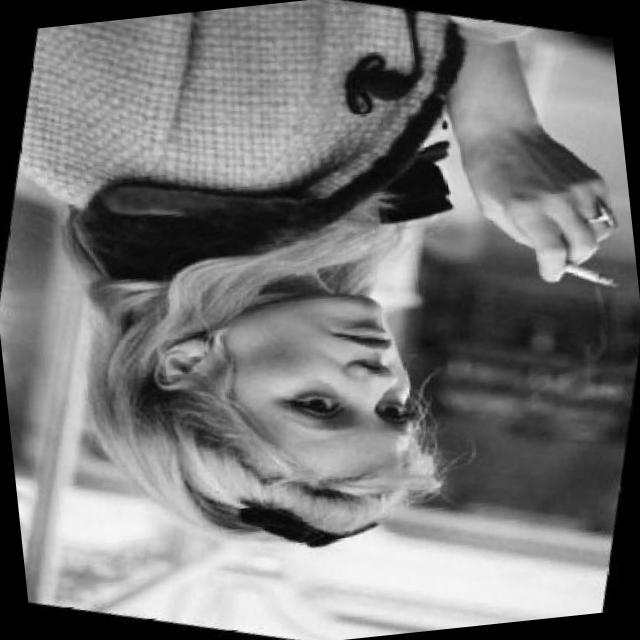cigarette: (550, 249, 630, 299)
